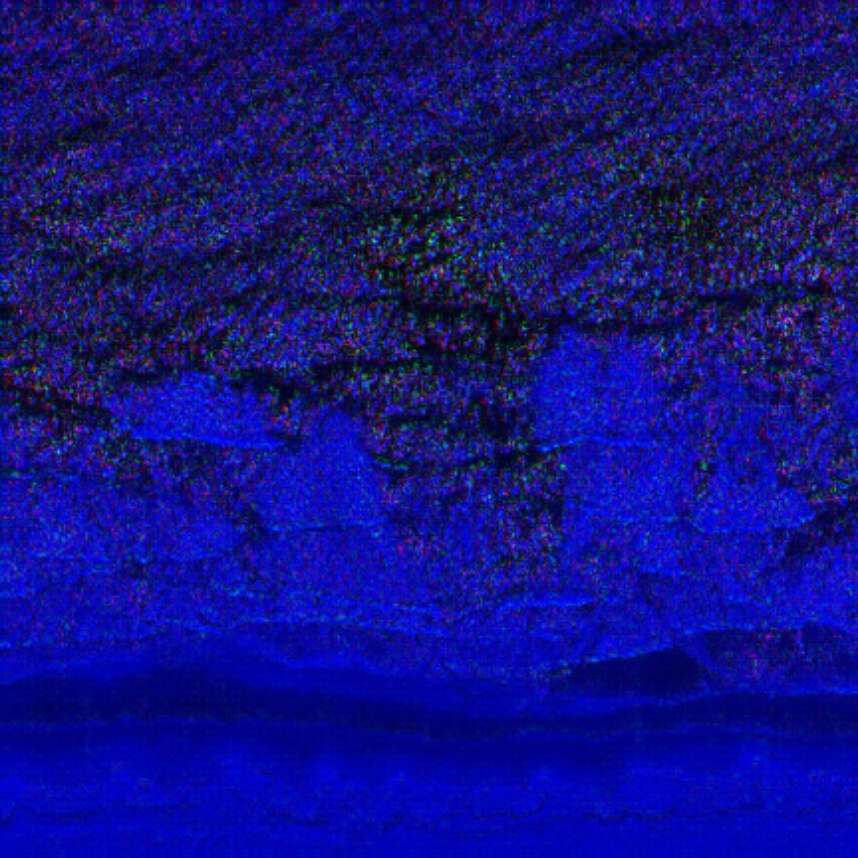rip_current: (333, 246, 597, 648)
